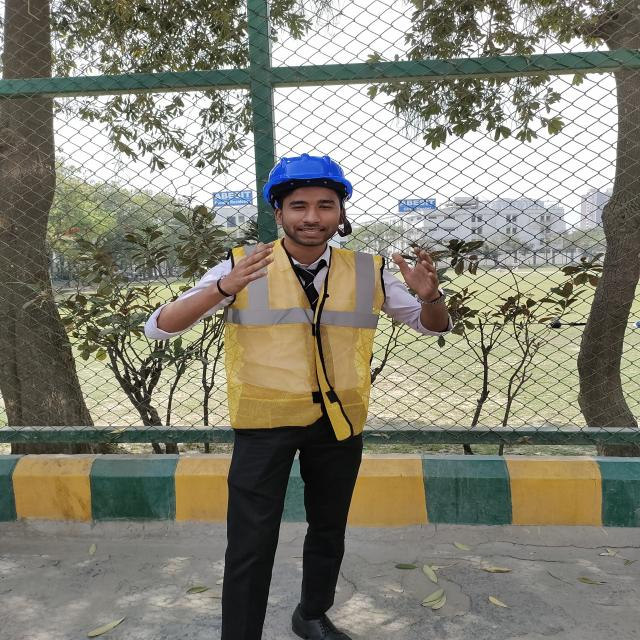safe: (203, 154, 388, 640)
